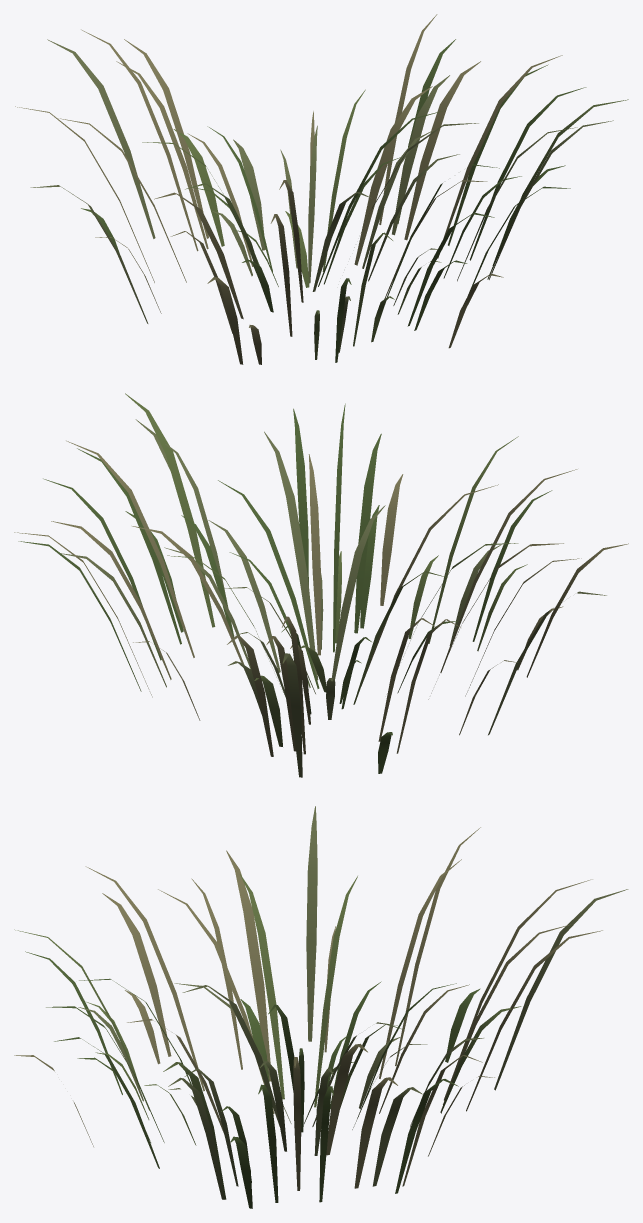
File: SM_Grass.fbx
The picture shows the model from 3 angles, top to bottom: view 1: azimuth 30°, elevation 25°; view 2: azimuth 150°, elevation 25°; view 3: azimuth 270°, elevation 25°; orthographic projection. The views are drawn at different scales.
Parts seen in each view (by area): view 1: SM_Grass; view 2: SM_Grass; view 3: SM_Grass.
Boxes of the visible parts, box(x1,y1,x2,y2) form: SM_Grass: box(15, 14, 628, 364); SM_Grass: box(14, 393, 628, 777); SM_Grass: box(14, 806, 628, 1208).
Size of the model in its own units: 194 by 181 by 63.77.
